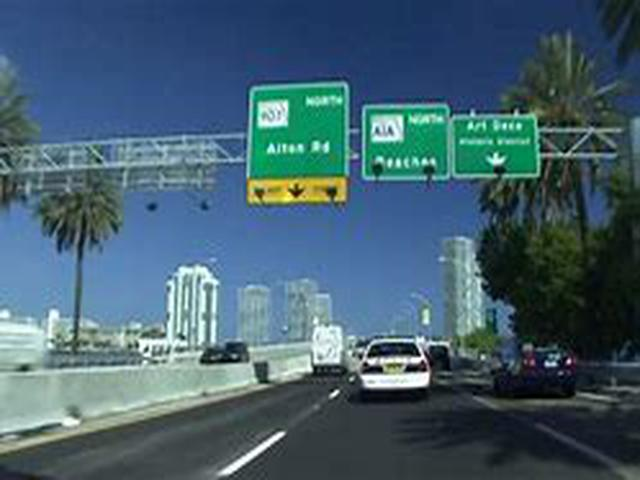autre: (250, 87, 348, 201), (363, 104, 452, 181), (454, 115, 539, 176)
